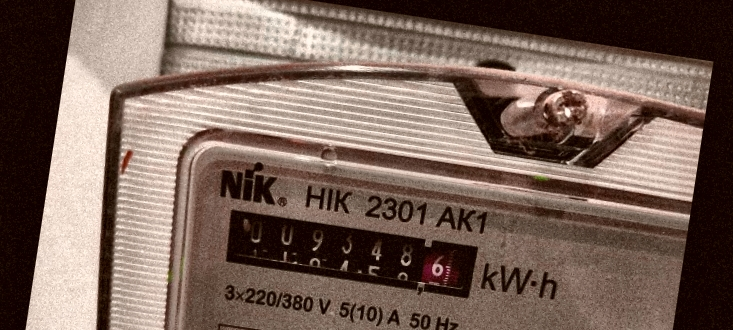0: (247, 217, 264, 244), (278, 221, 296, 246)
3: (338, 229, 355, 257)
4: (367, 234, 385, 262)
6: (427, 250, 448, 279)
8: (396, 239, 415, 269)
9: (307, 226, 325, 253)
screen: (212, 200, 488, 309)
